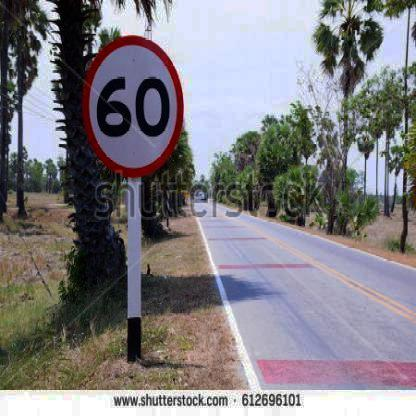Speed Limit -60-: (80, 32, 183, 176)
